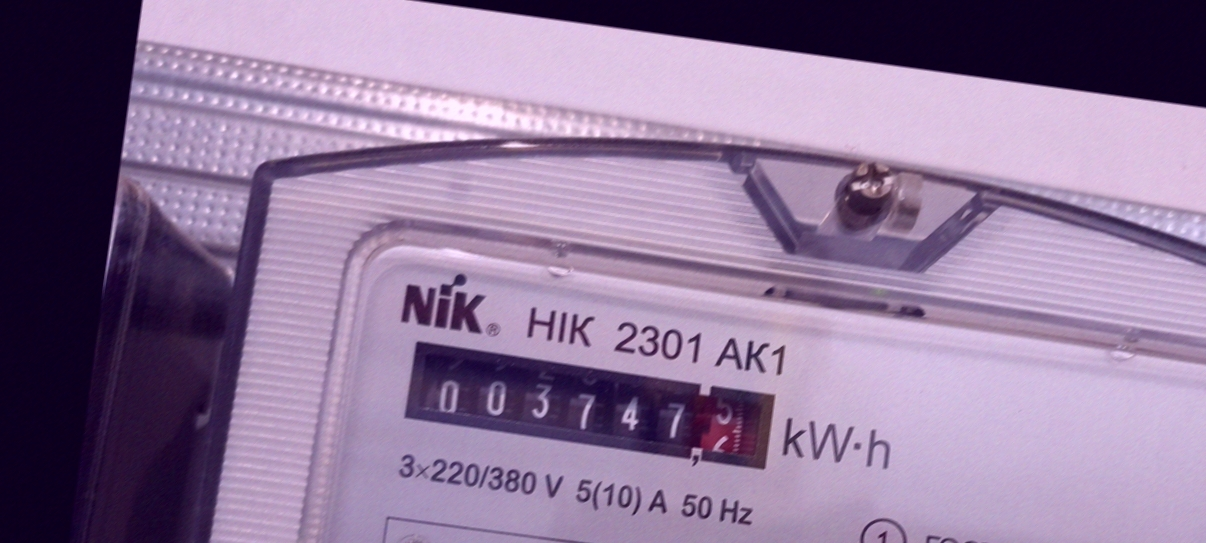0: (483, 376, 508, 417), (435, 376, 461, 414)
3: (529, 381, 552, 420)
4: (617, 391, 642, 433)
5: (712, 395, 735, 426)
6: (708, 430, 730, 453)
7: (660, 397, 687, 440), (572, 389, 596, 431)
screen: (392, 328, 791, 486)
